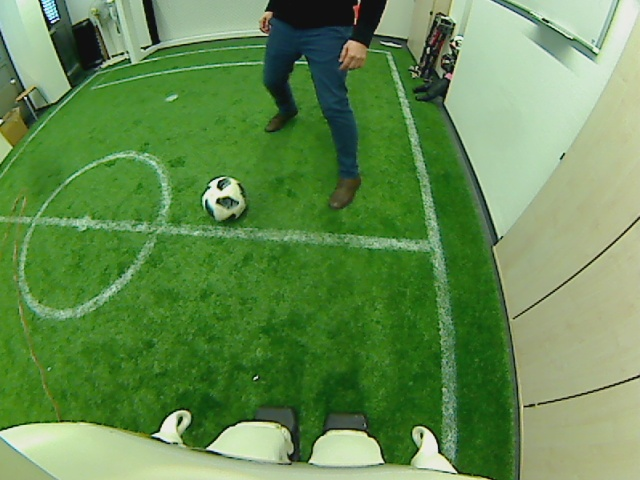ball: (200, 175, 247, 224)
